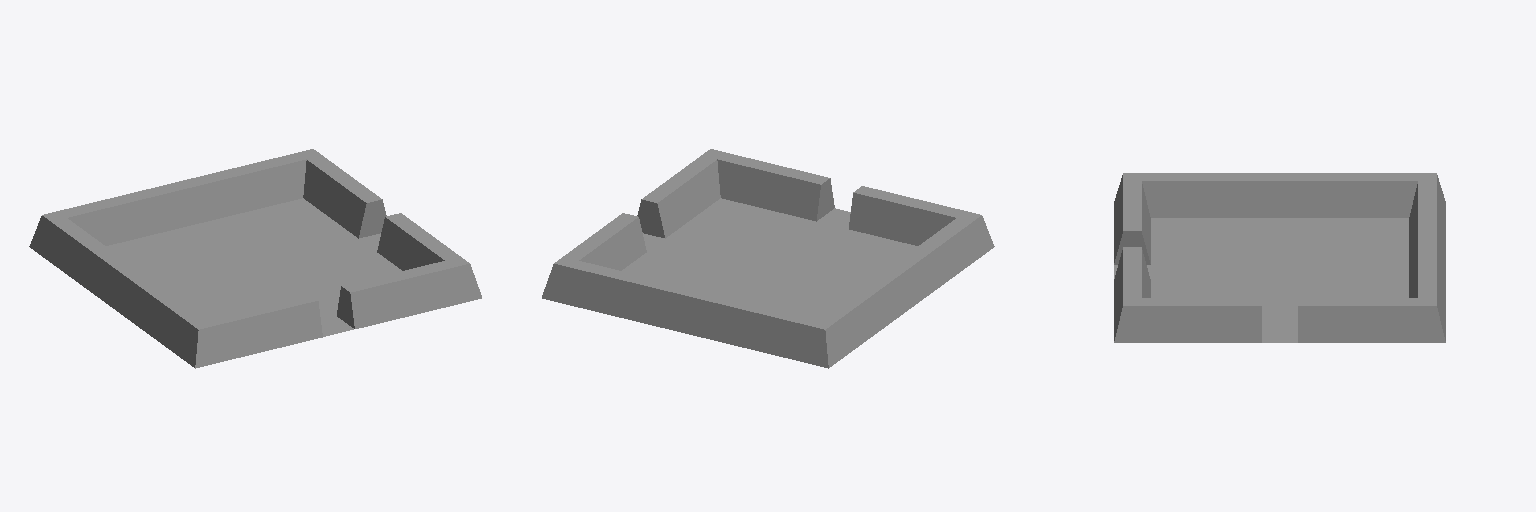
Rendered from sala_7.obj.
3 renders of one model, left to right at view 1: azimuth 30°, elevation 25°; view 2: azimuth 150°, elevation 25°; view 3: azimuth 270°, elevation 25°, orthographic.
Visible parts, largest first — view 1: Ground_Plane, Wall.006_Cube.016, Wall.004_Cube.015, Wall.001_Cube.012, Wall.003_Cube.010, Wall.002_Cube.014, Wall.005_Cube.002, Wall.000_Cube.011, Wall.007_Cube.017; view 2: Ground_Plane, Wall.003_Cube.010, Wall.001_Cube.012, Wall.006_Cube.016, Wall.005_Cube.002, Wall.002_Cube.014, Wall.004_Cube.015, Wall.007_Cube.017, Wall.000_Cube.011; view 3: Ground_Plane, Wall.000_Cube.011, Wall.007_Cube.017, Wall.005_Cube.002, Wall.002_Cube.014, Wall.004_Cube.015, Wall.003_Cube.010, Wall.001_Cube.012, Wall.006_Cube.016.
Part boxes in pixels (x1,y1,x2,y2): Ground_Plane: (106,198,401,336); Wall.006_Cube.016: (337,261,481,328); Wall.004_Cube.015: (195,294,322,368); Wall.001_Cube.012: (178,149,312,224); Wall.003_Cube.010: (44,182,190,245); Wall.002_Cube.014: (29,215,135,306); Wall.005_Cube.002: (112,269,204,367); Wall.000_Cube.011: (303,149,386,238); Wall.007_Cube.017: (377,213,468,270); Ground_Plane: (622,198,917,318); Wall.003_Cube.010: (685,290,828,368); Wall.001_Cube.012: (542,261,697,332); Wall.006_Cube.016: (711,149,834,221); Wall.005_Cube.002: (888,215,994,306); Wall.002_Cube.014: (819,269,911,367); Wall.004_Cube.015: (849,186,979,245); Wall.007_Cube.017: (637,149,720,238); Wall.000_Cube.011: (555,213,646,270); Ground_Plane: (1114,218,1408,342); Wall.000_Cube.011: (1298,298,1445,342); Wall.007_Cube.017: (1114,298,1261,342); Wall.005_Cube.002: (1124,173,1279,217); Wall.002_Cube.014: (1280,173,1435,217); Wall.004_Cube.015: (1114,173,1150,264); Wall.003_Cube.010: (1409,173,1445,270); Wall.001_Cube.012: (1409,239,1445,340); Wall.006_Cube.016: (1114,247,1150,340).
Size of the model in its own units: 18 by 2 by 18.